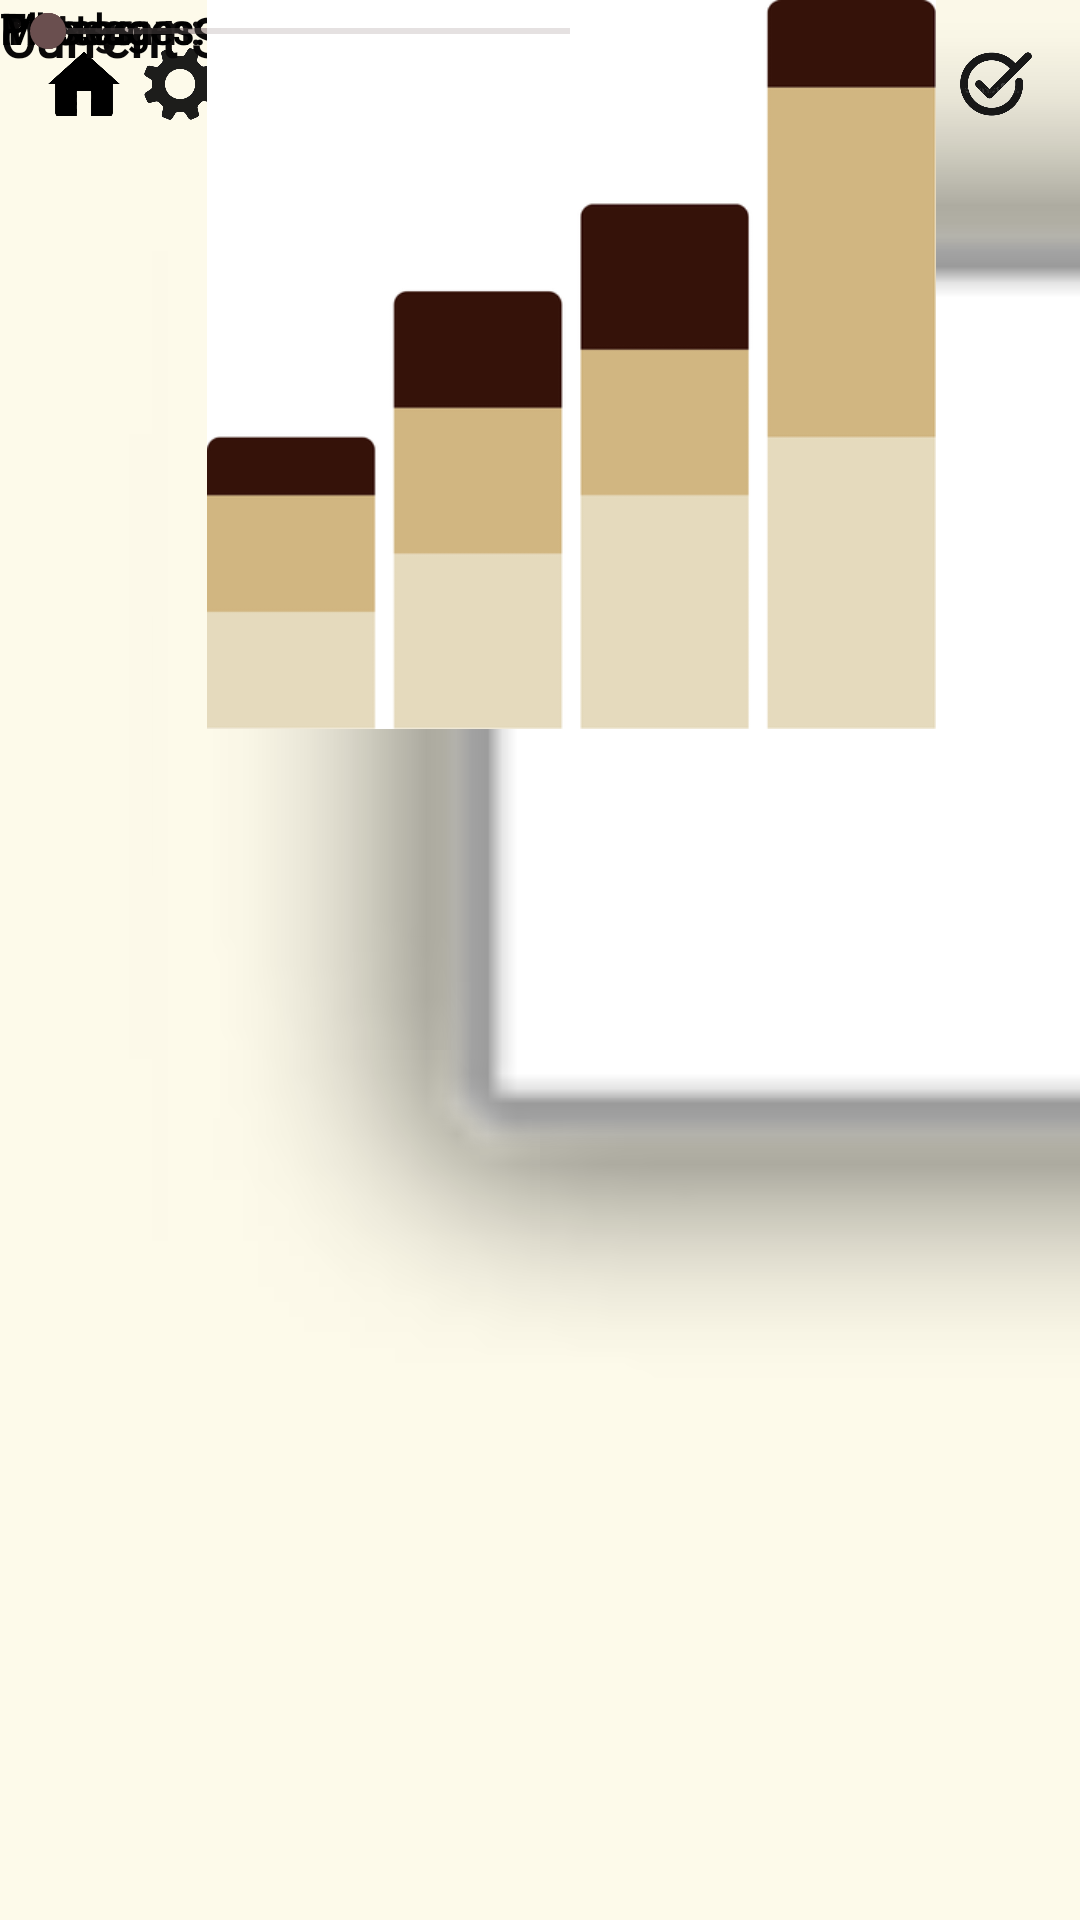

Icons on this 1080w x 1920h Android screen, each with the point to tap as [x,y]:
Checkmark: [996,86]
Home: [84,82]
Settings: [175,84]
